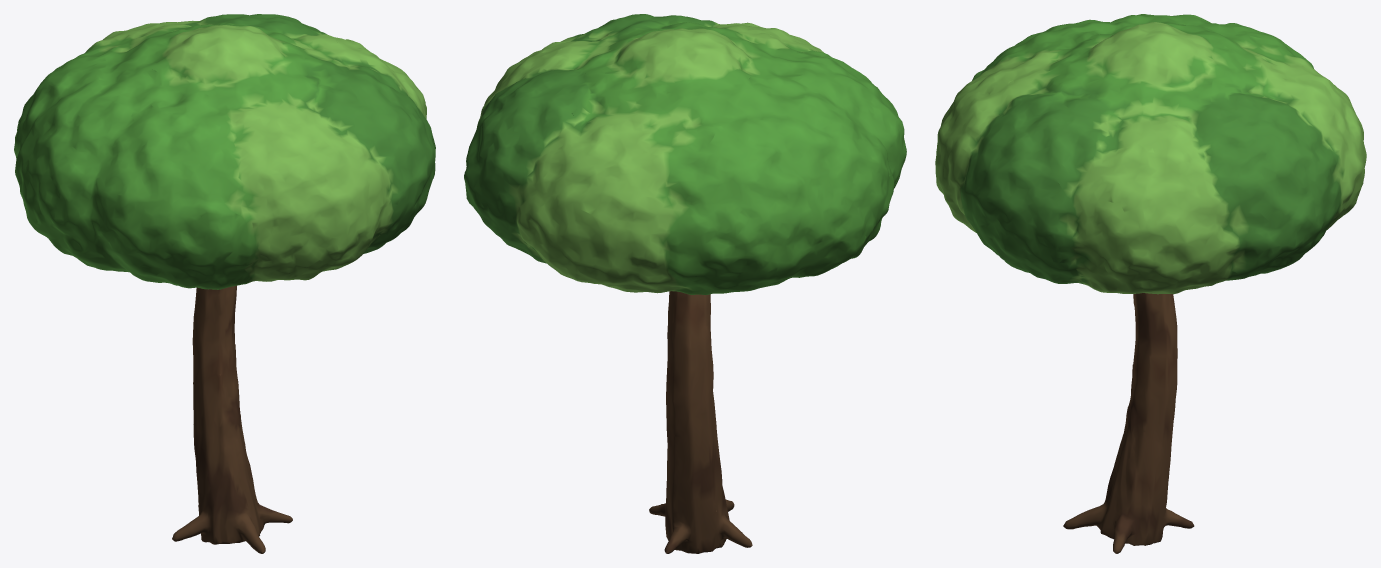
File: broadleaf_mature_medium_rounded_dense_healthy.glb
3 renders of one model, left to right at view 1: azimuth 30°, elevation 25°; view 2: azimuth 150°, elevation 25°; view 3: azimuth 270°, elevation 25°, orthographic. The views are drawn at different scales.
Parts seen in each view (by area): view 1: broadleaf_mature_medium_rounded_dense_healthy_LOD0; view 2: broadleaf_mature_medium_rounded_dense_healthy_LOD0; view 3: broadleaf_mature_medium_rounded_dense_healthy_LOD0.
Part boxes in pixels (left/top/right/bottom): broadleaf_mature_medium_rounded_dense_healthy_LOD0: left=14, top=14, right=435, bottom=553; broadleaf_mature_medium_rounded_dense_healthy_LOD0: left=464, top=14, right=906, bottom=553; broadleaf_mature_medium_rounded_dense_healthy_LOD0: left=935, top=14, right=1366, bottom=553.
Size of what is drawn, in the model's own units: 3.27 by 4.15 by 3.2.
